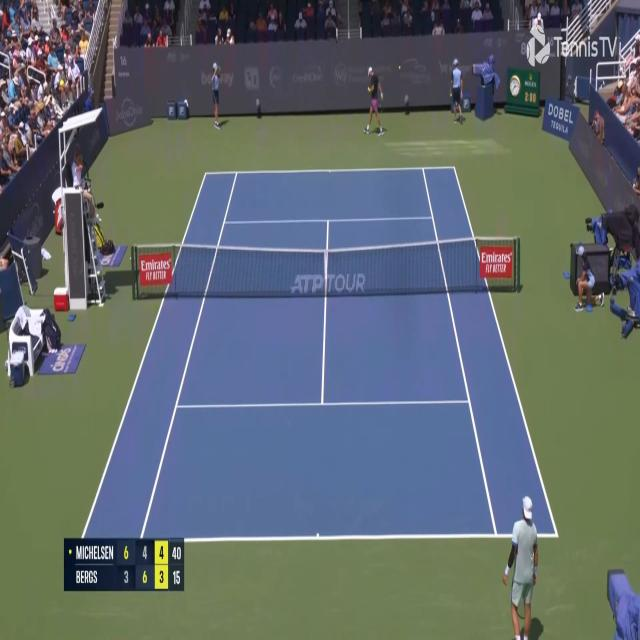tennis-player: (502, 494, 541, 640), (364, 64, 386, 138)
